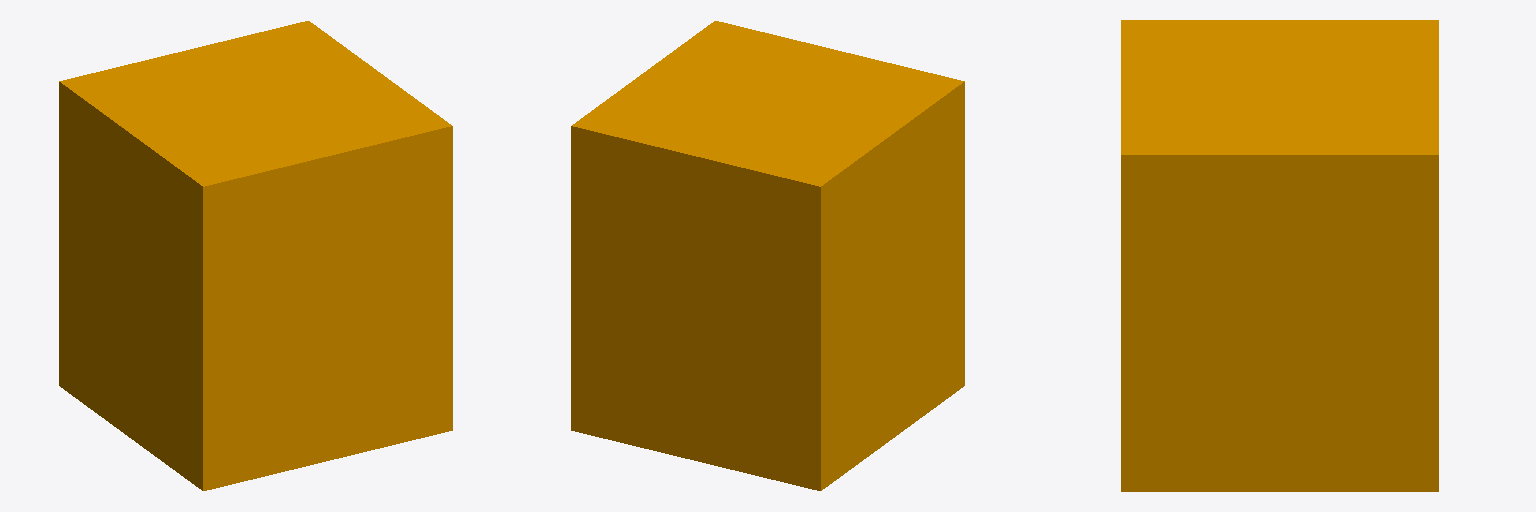
URDF robot description (object):
<?xml version="0.0"?>
	<robot name="object">
		<link name="object">
			<visual>
				<origin xyz="0 0 0"/>
				<geometry>
					<box size="0.6 0.6 0.7"/>
				</geometry>
			</visual>
			<inertial>
				<mass value="25.200"/>
			</inertial>
			<collision>
				<origin xyz="0 0 0"/>
				<geometry>
					<box size="0.6 0.6 0.7"/>
				</geometry>
			</collision>
		</link>

	</robot>

--- What the picture shows (computed from the rendered views, not written in the file) ---
The picture shows the robot from 3 angles, left to right: view 1: azimuth 30°, elevation 25°; view 2: azimuth 150°, elevation 25°; view 3: azimuth 270°, elevation 25°; orthographic projection.
Robot: object — 1 links, 0 joints (none); root link object; default pose: all joints at 0.
Links seen in each view (by area): view 1: object; view 2: object; view 3: object.
Link boxes in pixels (x1,y1,x2,y2): object: (59, 21, 452, 490); object: (571, 21, 964, 490); object: (1121, 20, 1438, 491).
Bounding box of the posed robot: 0.6 × 0.6 × 0.7 m (x, y, z).
Geometry: primitives only (box / cylinder / sphere), no mesh files.